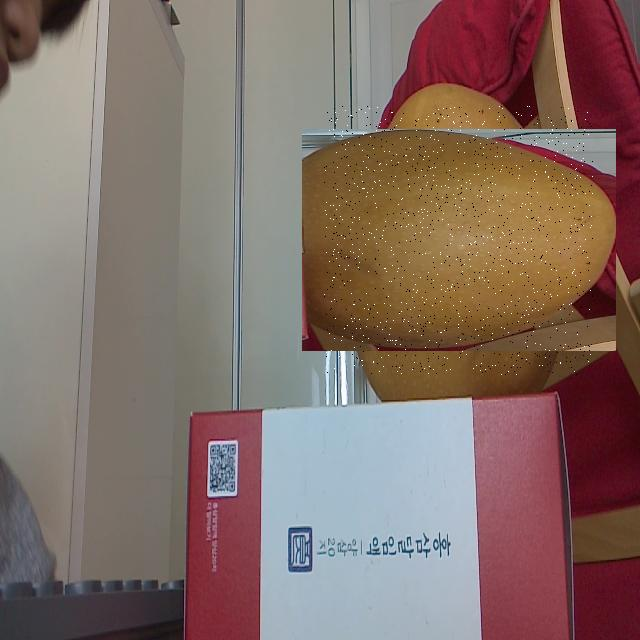pear: (324, 106, 593, 375)
